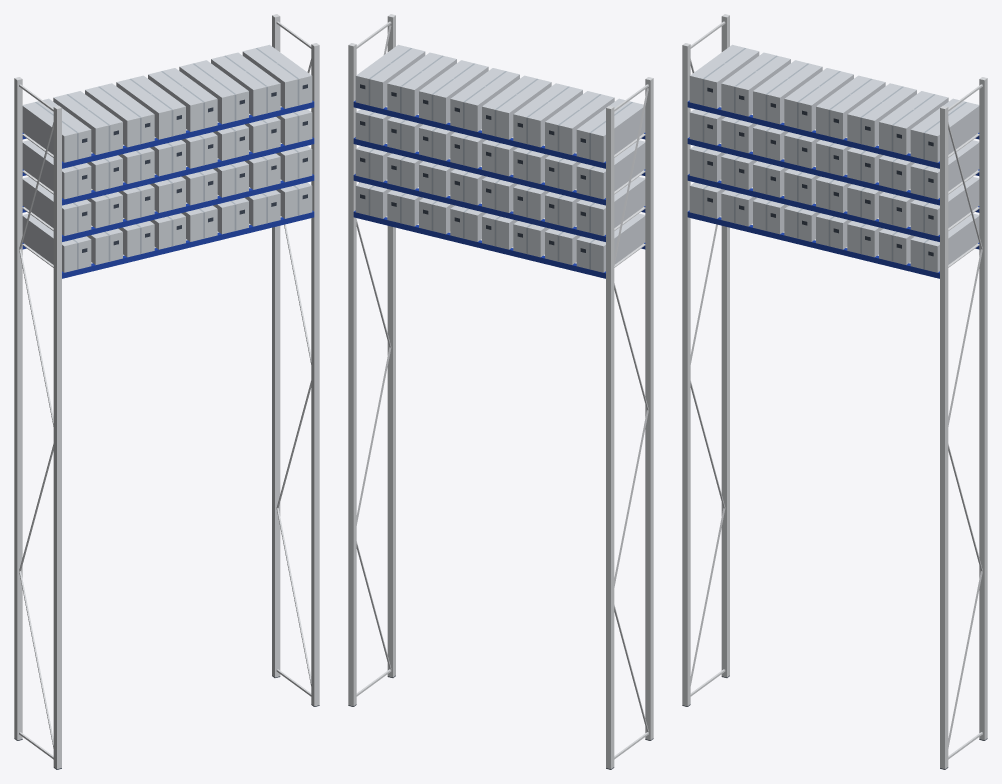
File: SM_MPR_CADRack_F16_W144_Passage_LOD1.fbx
3 renders of one model, left to right at view 1: azimuth 30°, elevation 25°; view 2: azimuth 150°, elevation 25°; view 3: azimuth 330°, elevation 25°, orthographic.
Visible parts, largest first — view 1: SM_MPR_CADRack_F16_W144_Passage_LOD1; view 2: SM_MPR_CADRack_F16_W144_Passage_LOD1; view 3: SM_MPR_CADRack_F16_W144_Passage_LOD1.
Part boxes in pixels (left/top/right/bottom): SM_MPR_CADRack_F16_W144_Passage_LOD1: left=14, top=14, right=319, bottom=769; SM_MPR_CADRack_F16_W144_Passage_LOD1: left=348, top=14, right=653, bottom=769; SM_MPR_CADRack_F16_W144_Passage_LOD1: left=682, top=14, right=987, bottom=769.
Size of the model in its own units: 381 by 107 by 915.
